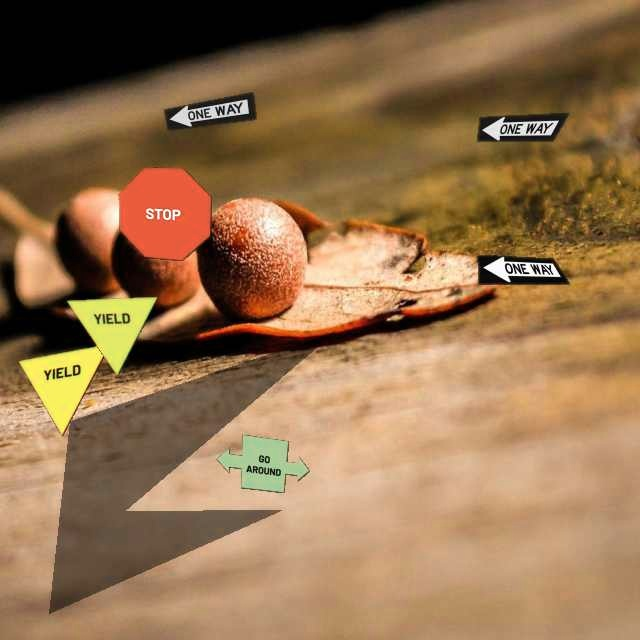GO_AROUND: (216, 434, 310, 493)
ONE_WAY_ left: (163, 91, 257, 131), (477, 254, 571, 285), (476, 112, 570, 142)
STOP: (118, 167, 212, 261)
YIELD: (17, 343, 111, 437), (65, 296, 159, 377)
